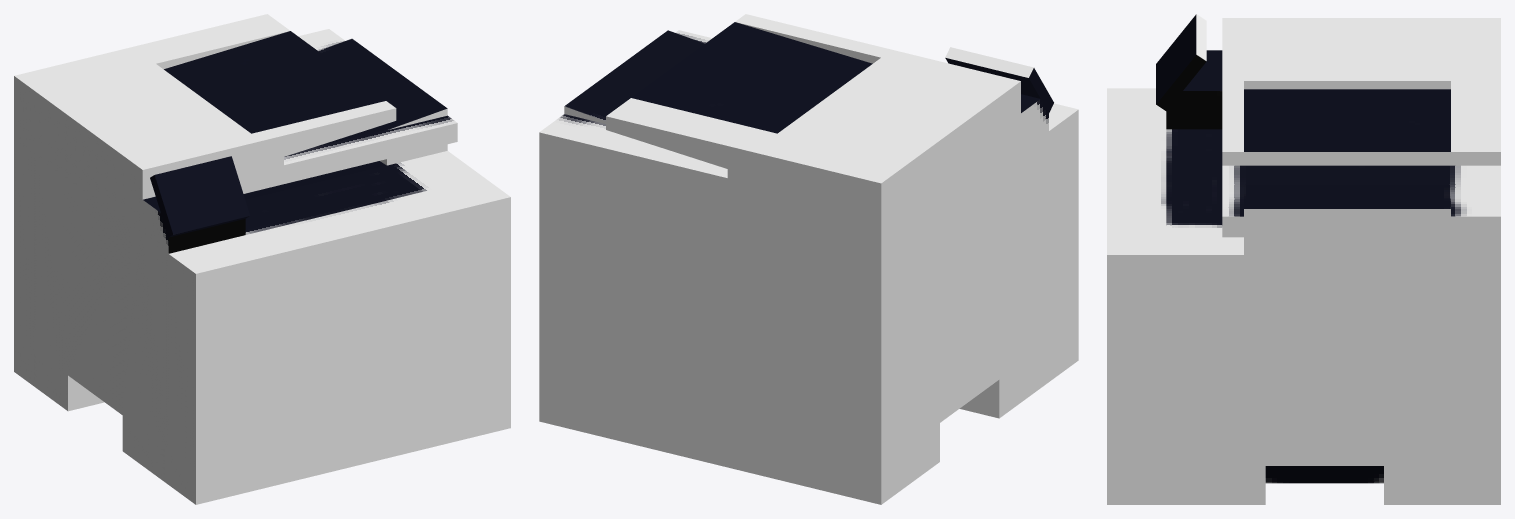
File: printer.glb
3 renders of one model, left to right at view 1: azimuth 30°, elevation 25°; view 2: azimuth 150°, elevation 25°; view 3: azimuth 270°, elevation 25°, orthographic. The views are drawn at different scales.
Visible parts, largest first — view 1: Printer; view 2: Printer; view 3: Printer.
Part boxes in pixels (<box>): Printer: <box>14,14,510,504</box>; Printer: <box>539,14,1078,504</box>; Printer: <box>1107,14,1500,504</box>.
Bounding box in the file's own units: 0.9999 × 0.9096 × 1.
1 material, 1 textured.
